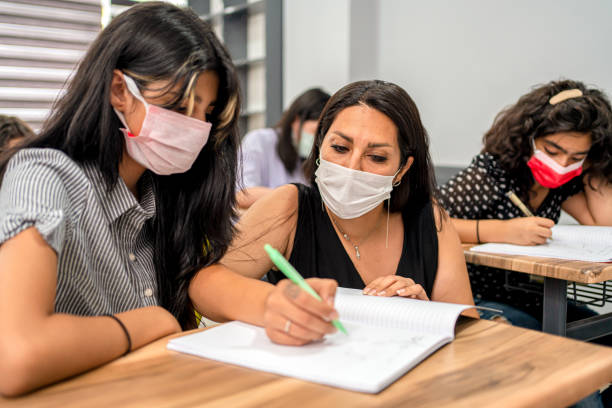with mask: (103, 60, 225, 182), (314, 91, 398, 223), (525, 105, 596, 192)
